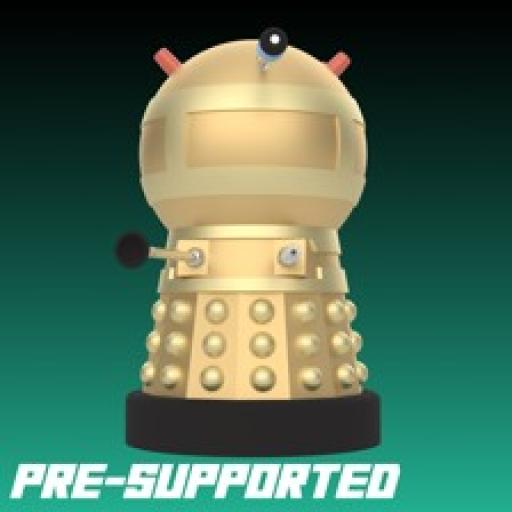dalek: (109, 20, 383, 453)
